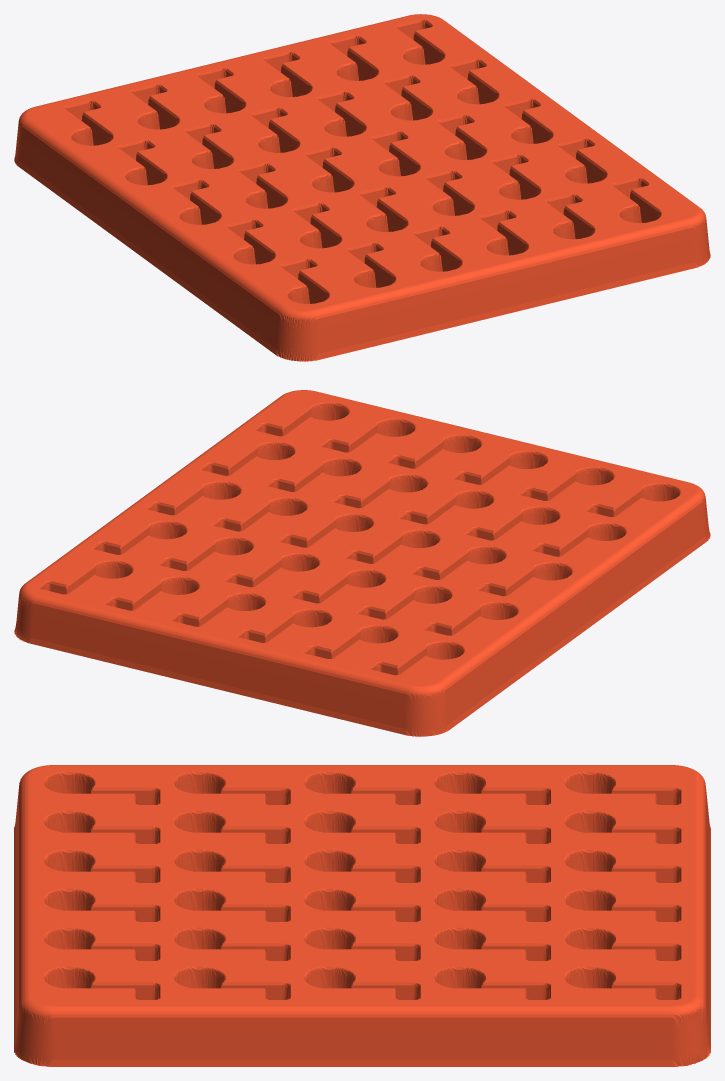
The model's file is mold.glb.
3 renders of one model, top to bottom at view 1: azimuth 30°, elevation 25°; view 2: azimuth 150°, elevation 25°; view 3: azimuth 270°, elevation 25°, orthographic. The views are drawn at different scales.
Parts seen in each view (by area): view 1: geometry_0; view 2: geometry_0; view 3: geometry_0.
Boxes of the visible parts, x1,y1,x2,y2 form: geometry_0: (14,14,710,361); geometry_0: (14,390,710,736); geometry_0: (14,765,710,1066).
Bounding box in the file's own units: 0.136 × 0.0136 × 0.1581.
